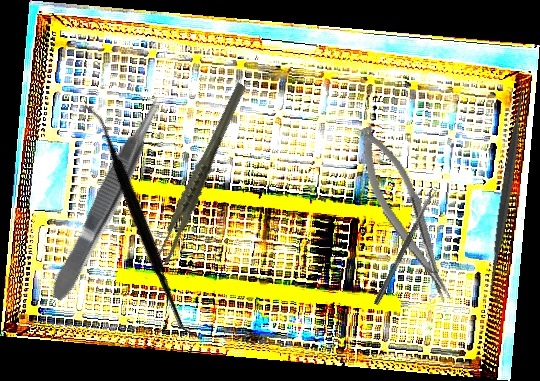Needle Holder: (348, 119, 461, 311)
Spatula Surgical: (11, 103, 275, 342), (477, 78, 537, 303)
Surgical Spoon: (373, 188, 438, 306)
Tissue Forceps: (125, 80, 278, 268), (42, 93, 172, 304)
